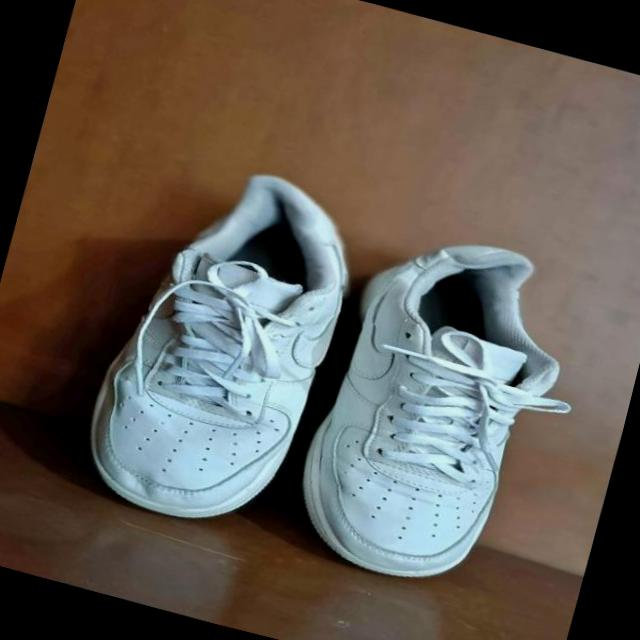nike_fake_airforce: (64, 142, 373, 549), (281, 216, 591, 610)
